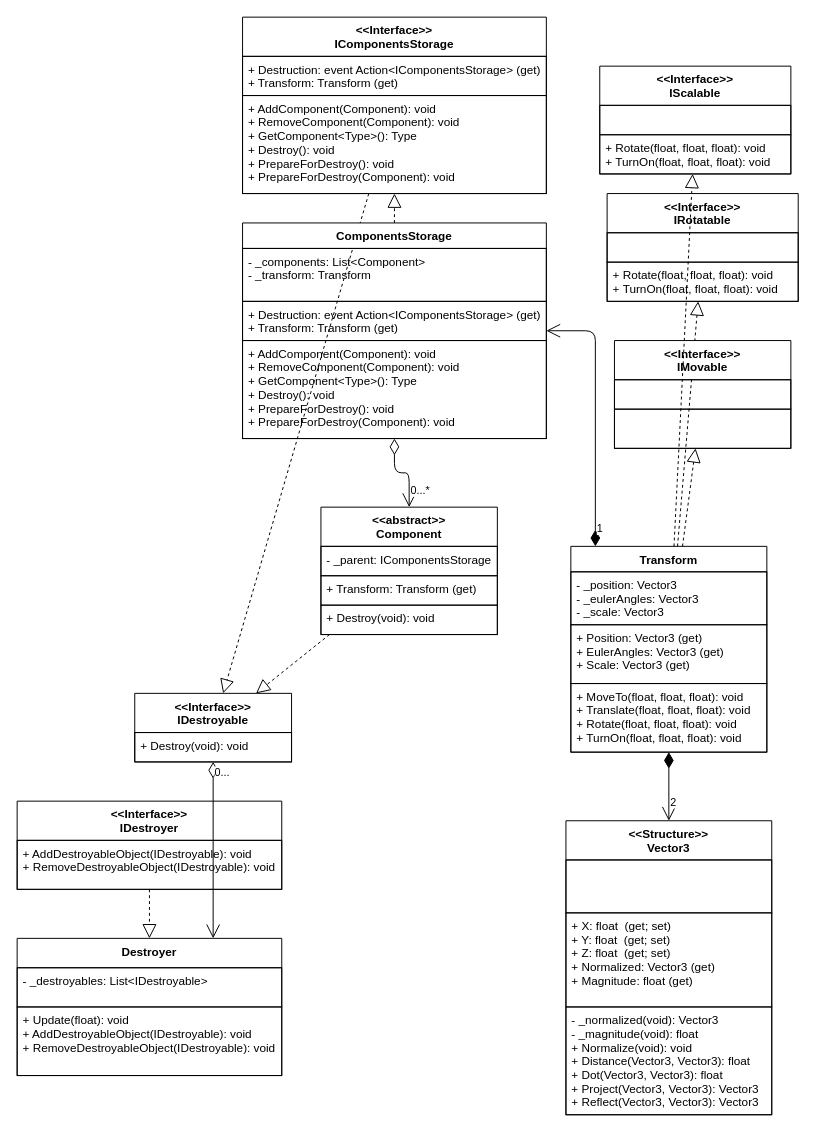
Image size: 815x1135. Some labels were removed from this diagram. The centre of each missing label's shape, as x and y in pixels:
"+ EulerAngles: Vector3 (get)" belongs at (x=702, y=247).
"+ MoveTo(float, float, float): void + Translate(float, float, float): void" belongs at (x=702, y=428).
"+ Position: Vector3 (get)" belongs at (x=702, y=394).
"+ Scale: Vector3 (get, set)" belongs at (x=695, y=119).
"- _x: float - _y: float - _z: float" belongs at (x=668, y=886).
